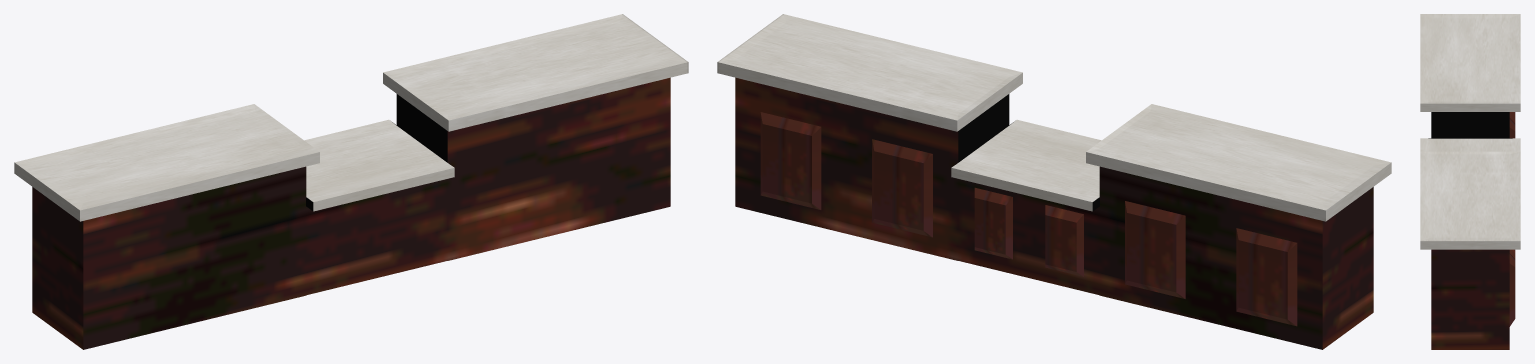
File: OfficeDesk.fbx
3 renders of one model, left to right at view 1: azimuth 30°, elevation 25°; view 2: azimuth 150°, elevation 25°; view 3: azimuth 270°, elevation 25°, orthographic. The views are drawn at different scales.
Parts seen in each view (by area): view 1: OfficeDesk; view 2: OfficeDesk; view 3: OfficeDesk.
Part boxes in pixels (<box>): OfficeDesk: <box>14,14,688,349</box>; OfficeDesk: <box>717,14,1391,349</box>; OfficeDesk: <box>1420,14,1520,349</box>.
Bounding box in the file's own units: 360 × 83.3 × 67.34.
